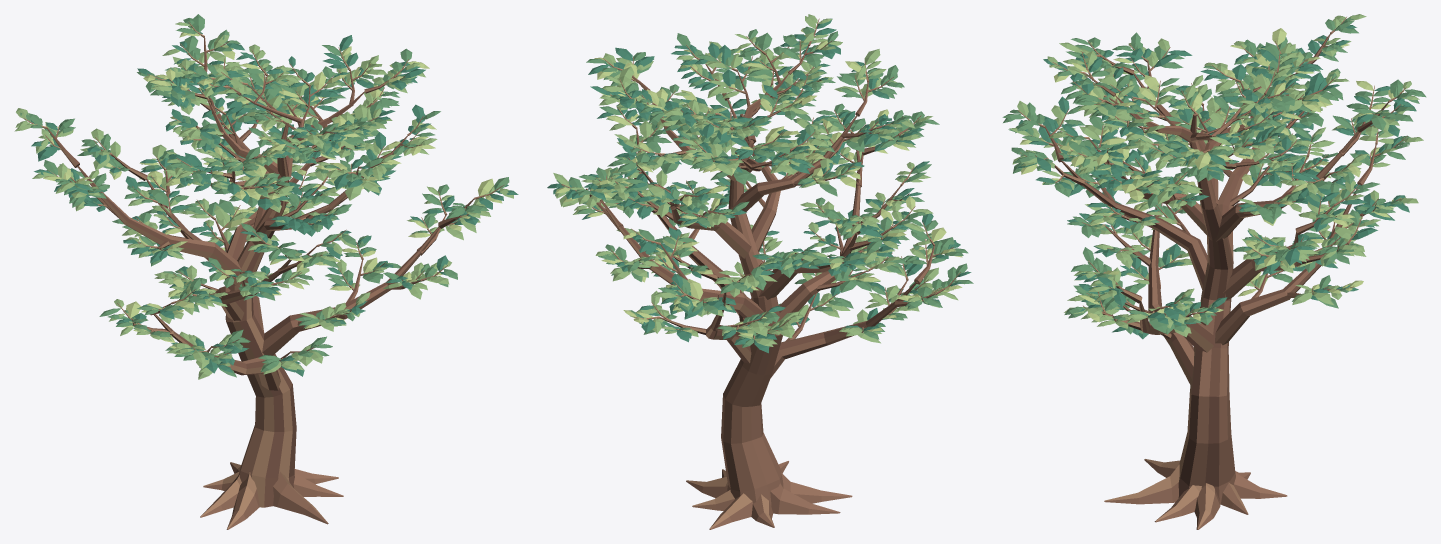
The model's file is grow-flowers.glb.
The picture shows the model from 3 angles, left to right: view 1: azimuth 30°, elevation 25°; view 2: azimuth 150°, elevation 25°; view 3: azimuth 270°, elevation 25°; orthographic projection. The views are drawn at different scales.
Visible parts, largest first — view 1: Heartwood.003, Leaf spray 03.002, Leaf spray 05.002, Leaf spray 08.002, Leaf spray 10.002, Leaf spray 09.002, Leaf spray 06.002, Leaf spray 07.002, Leaf spray 01.002, Leaf spray 04.002, Leaf spray 02.002; view 2: Heartwood.003, Leaf spray 09.002, Leaf spray 05.002, Leaf spray 03.002, Leaf spray 08.002, Leaf spray 01.002, Leaf spray 04.002, Leaf spray 06.002, Leaf spray 10.002, Leaf spray 07.002, Leaf spray 02.002; view 3: Heartwood.003, Leaf spray 09.002, Leaf spray 05.002, Leaf spray 01.002, Leaf spray 06.002, Leaf spray 03.002, Leaf spray 02.002, Leaf spray 08.002, Leaf spray 10.002, Leaf spray 04.002, Leaf spray 07.002.
Boxes of the visible parts, <box> form: Heartwood.003: <box>23,22,503,529</box>; Leaf spray 03.002: <box>32,14,488,376</box>; Leaf spray 05.002: <box>44,29,490,373</box>; Leaf spray 08.002: <box>56,36,454,326</box>; Leaf spray 10.002: <box>54,65,518,374</box>; Leaf spray 09.002: <box>123,60,422,358</box>; Leaf spray 06.002: <box>124,58,457,331</box>; Leaf spray 07.002: <box>31,44,440,366</box>; Leaf spray 01.002: <box>75,60,384,360</box>; Leaf spray 04.002: <box>75,57,401,379</box>; Leaf spray 02.002: <box>14,35,436,335</box>; Heartwood.003: <box>561,18,960,529</box>; Leaf spray 09.002: <box>553,32,945,333</box>; Leaf spray 05.002: <box>595,34,942,342</box>; Leaf spray 03.002: <box>586,14,938,336</box>; Leaf spray 08.002: <box>579,49,931,338</box>; Leaf spray 01.002: <box>616,65,939,353</box>; Leaf spray 04.002: <box>547,65,946,343</box>; Leaf spray 06.002: <box>569,31,968,305</box>; Leaf spray 10.002: <box>589,41,933,317</box>; Leaf spray 07.002: <box>590,33,953,335</box>; Leaf spray 02.002: <box>586,29,973,334</box>; Heartwood.003: <box>1017,17,1407,529</box>; Leaf spray 09.002: <box>1014,38,1395,319</box>; Leaf spray 05.002: <box>1036,40,1395,307</box>; Leaf spray 01.002: <box>1002,37,1390,282</box>; Leaf spray 06.002: <box>1008,32,1395,322</box>; Leaf spray 03.002: <box>1043,44,1426,339</box>; Leaf spray 02.002: <box>1011,14,1380,328</box>; Leaf spray 08.002: <box>1043,28,1423,321</box>; Leaf spray 10.002: <box>1059,39,1390,333</box>; Leaf spray 04.002: <box>1042,53,1404,324</box>; Leaf spray 07.002: <box>1067,35,1344,337</box>.
Size of what is drawn, in the model's own units: 2.9 by 2.97 by 2.61.
